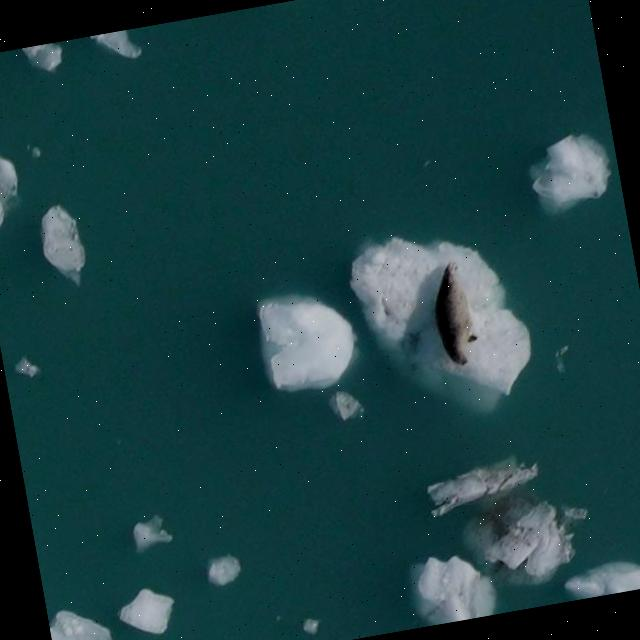seal: (434, 260, 476, 365)
